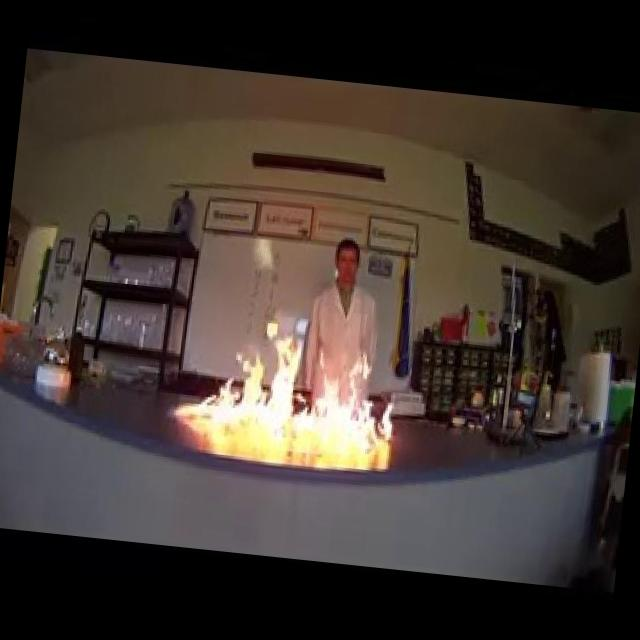Fire: (168, 306, 408, 446)
